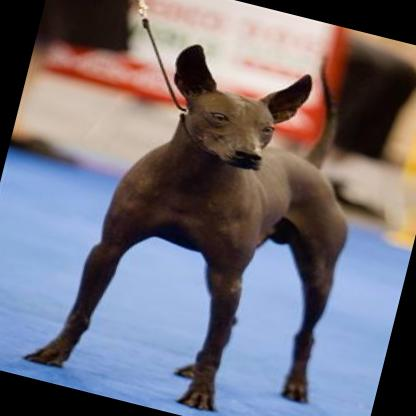Mexican_hairless: (16, 19, 383, 416)
